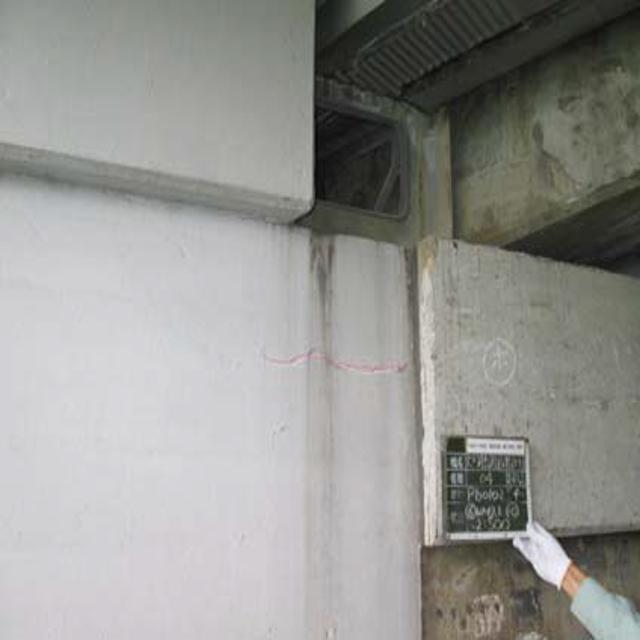crack: (257, 330, 416, 396)
leakage: (306, 223, 337, 331)
